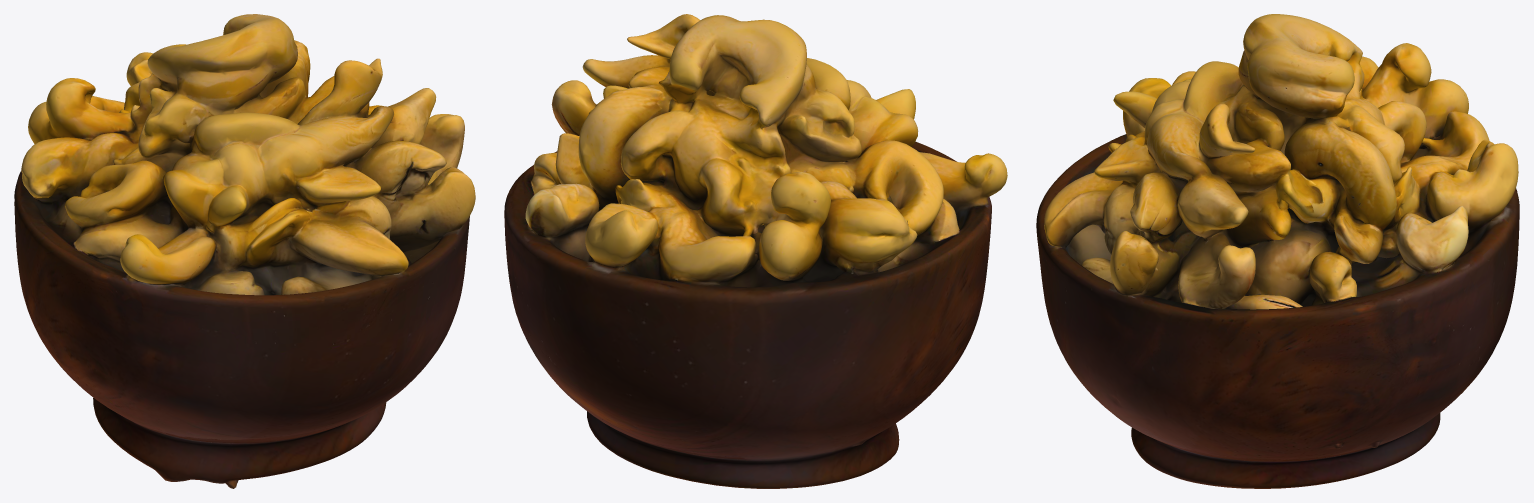
File: cashew.glb
3 views of the same model, side by side, from view 1: azimuth 30°, elevation 25°; view 2: azimuth 150°, elevation 25°; view 3: azimuth 270°, elevation 25° (orthographic). The views are drawn at different scales.
Visible parts, largest first — view 1: vrin_node_0ca21886-bc09-47a1-8265-b1d571eab22e; view 2: vrin_node_0ca21886-bc09-47a1-8265-b1d571eab22e; view 3: vrin_node_0ca21886-bc09-47a1-8265-b1d571eab22e.
Boxes of the visible parts, <box> form: vrin_node_0ca21886-bc09-47a1-8265-b1d571eab22e: <box>14,14,475,488</box>; vrin_node_0ca21886-bc09-47a1-8265-b1d571eab22e: <box>504,14,1007,488</box>; vrin_node_0ca21886-bc09-47a1-8265-b1d571eab22e: <box>1036,14,1519,488</box>.
Size of the model in its own units: 1 by 0.9763 by 0.993.
1 material, 1 textured.
